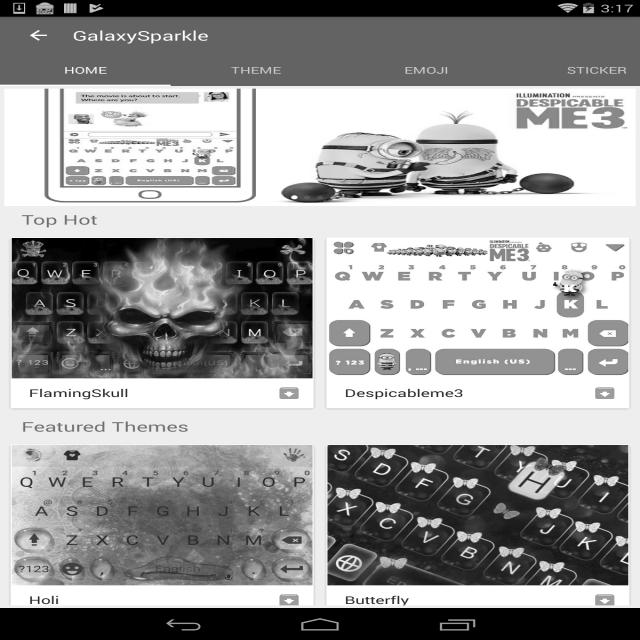ImageButton: (9, 17, 68, 54), (266, 378, 312, 408), (582, 378, 628, 408), (266, 585, 312, 615), (582, 585, 628, 615)
ImageView: (4, 89, 636, 206), (11, 238, 312, 378), (11, 445, 312, 585), (328, 238, 628, 378), (328, 445, 628, 585), (300, 196, 314, 200), (288, 196, 301, 200), (326, 196, 339, 200), (339, 196, 352, 200), (314, 196, 326, 200)
TextView: (13, 210, 551, 228), (13, 418, 551, 436), (12, 386, 266, 400), (328, 386, 582, 400), (12, 593, 266, 607), (328, 593, 582, 607), (73, 26, 208, 44), (567, 64, 627, 76), (231, 64, 281, 76), (404, 64, 449, 76), (64, 64, 107, 76)
